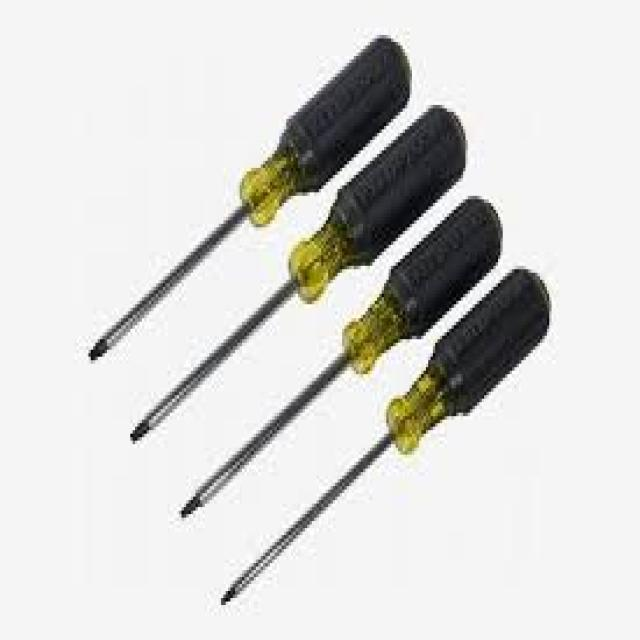screw driver: (31, 14, 456, 406)
